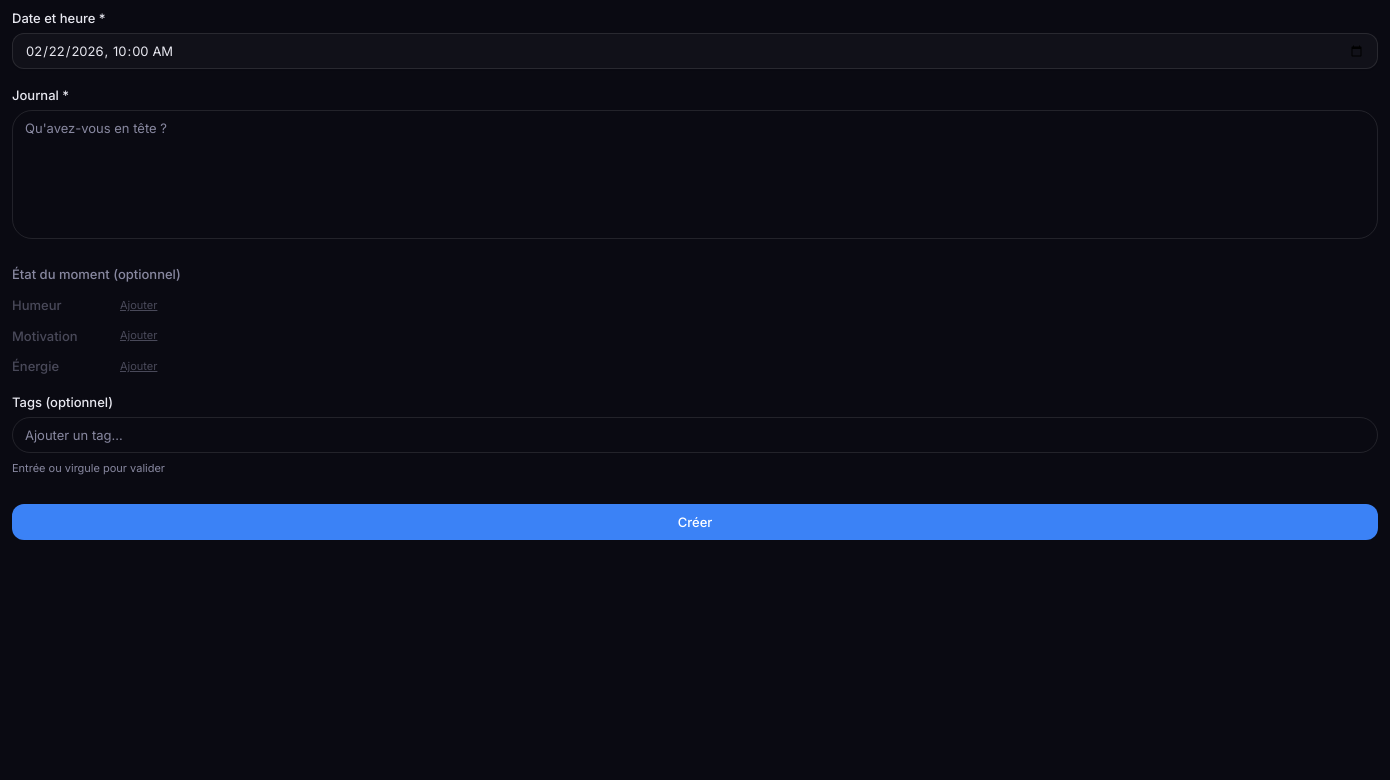
JournalForm — tags › supprime un tag via le bouton ×
// Ajouter un tag
Type "yoga" into the field named "Saisir un tag".
click(695, 435); type("yoga")  # box x1=12 y1=417 x2=1378 y2=453
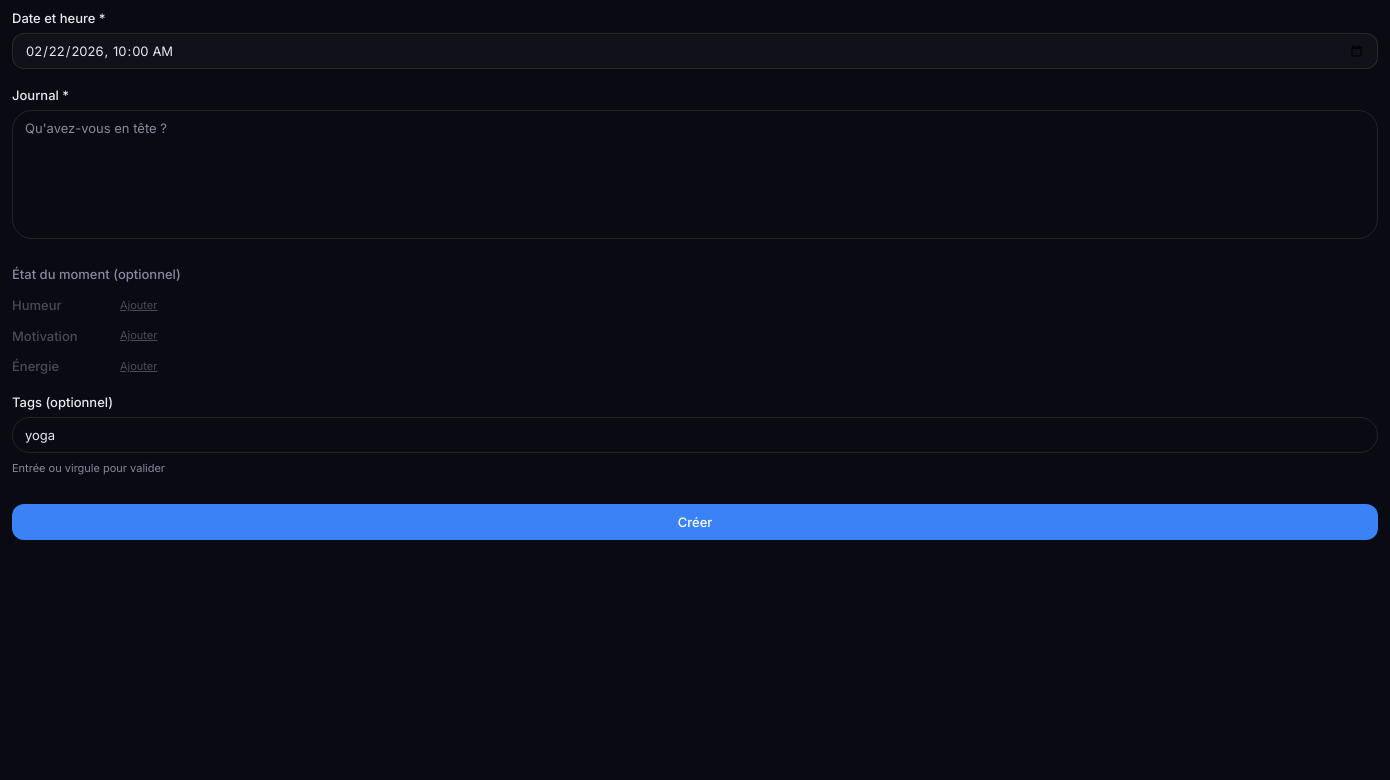
Press Enter in the field named "Saisir un tag", box x1=12 y1=417 x2=1378 y2=453
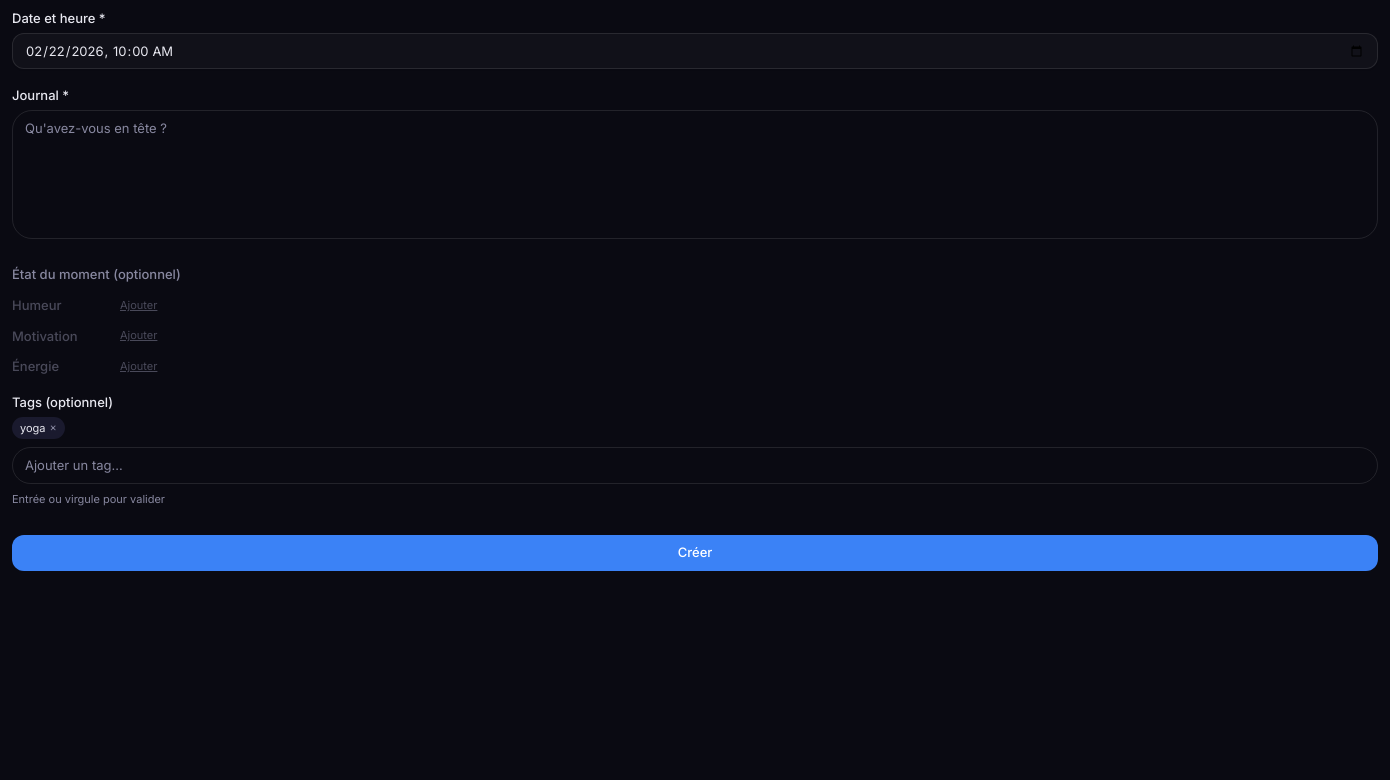
Now the text "yoga" is shown, box x1=20 y1=421 x2=46 y2=435
// Supprimer le tag
Click the button named "Supprimer le tag yoga".
click(53, 428)  # box x1=50 y1=422 x2=57 y2=434
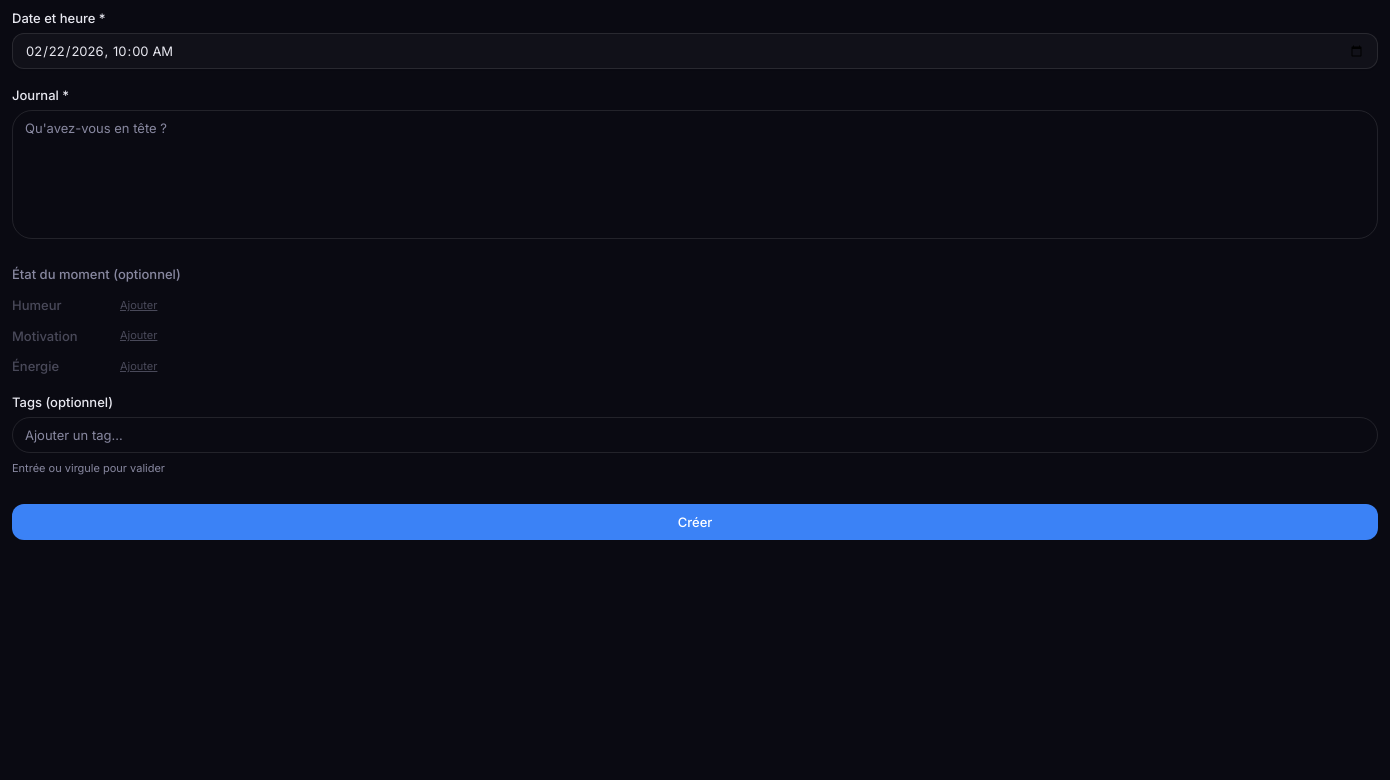
Now the text "yoga" is gone
